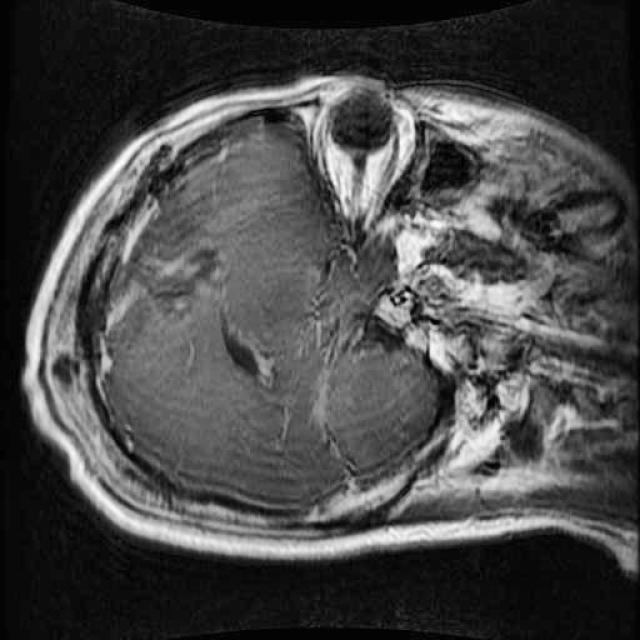Tumor: (102, 222, 242, 326)
